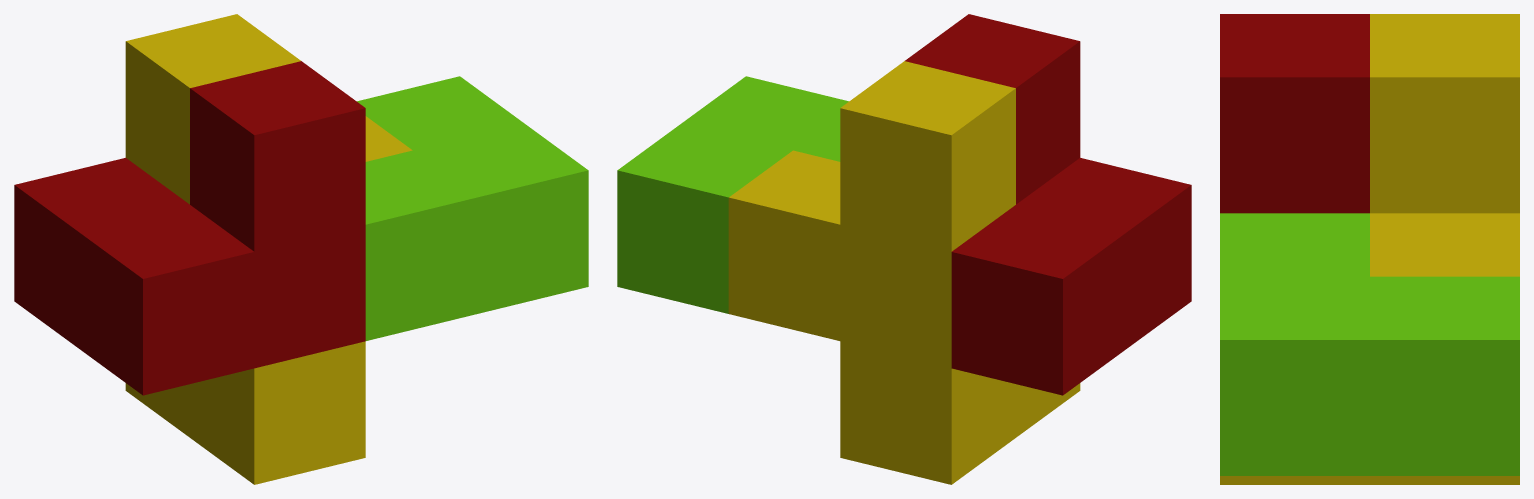
3 views of the same model, side by side, from view 1: azimuth 30°, elevation 25°; view 2: azimuth 150°, elevation 25°; view 3: azimuth 270°, elevation 25° (orthographic). The views are drawn at different scales.
Visible parts, largest first — view 1: mergedBlocks(Clone); view 2: mergedBlocks(Clone); view 3: mergedBlocks(Clone).
Boxes of the visible parts, x1,y1,x2,y2 form: mergedBlocks(Clone): (14,14,588,484); mergedBlocks(Clone): (617,14,1191,484); mergedBlocks(Clone): (1220,14,1519,484).
Bounding box in the file's own units: 4 × 3 × 2.
Materials: 3 (3 with a texture image).
